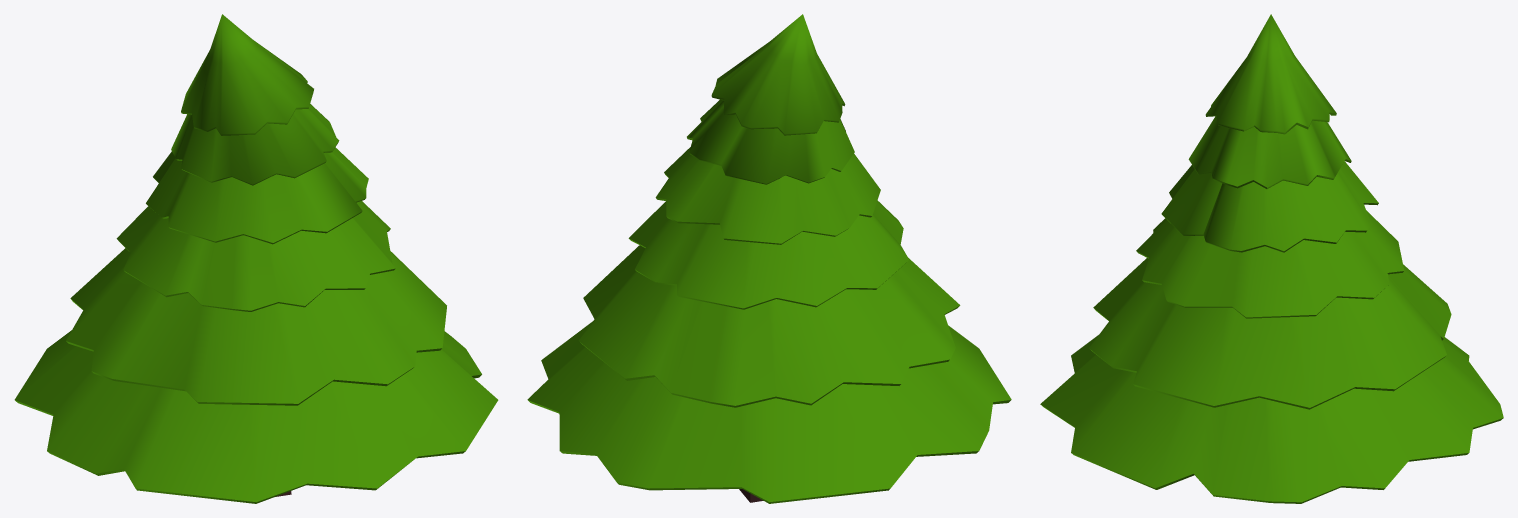
File: Tree_2.fbx
The picture shows the model from 3 angles, left to right: view 1: azimuth 30°, elevation 25°; view 2: azimuth 150°, elevation 25°; view 3: azimuth 270°, elevation 25°; orthographic projection. The views are drawn at different scales.
Visible parts, largest first — view 1: Cylinder.001; view 2: Cylinder.001; view 3: Cylinder.001.
Boxes of the visible parts, box(x1,y1,x2,y2) form: Cylinder.001: box(14, 14, 498, 503); Cylinder.001: box(527, 14, 1011, 503); Cylinder.001: box(1040, 14, 1503, 503).
Size of the model in its own units: 201 by 220 by 202.
